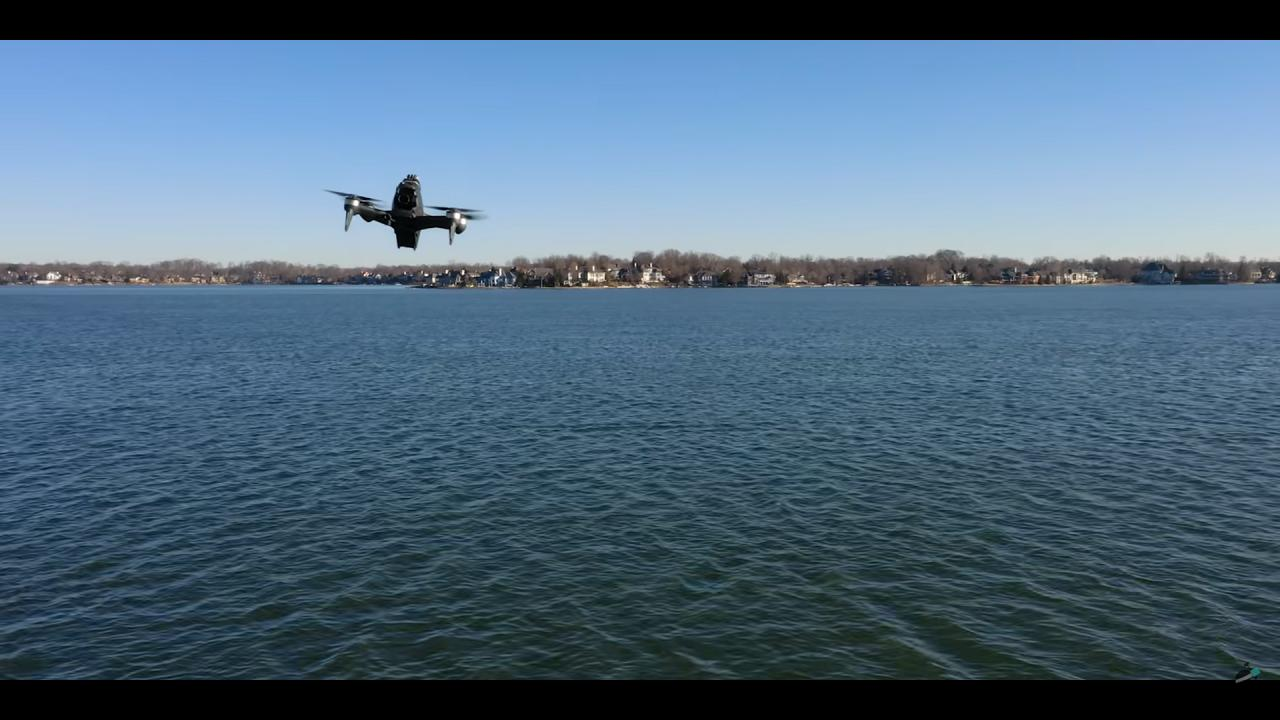Drone: (321, 159, 494, 261)
